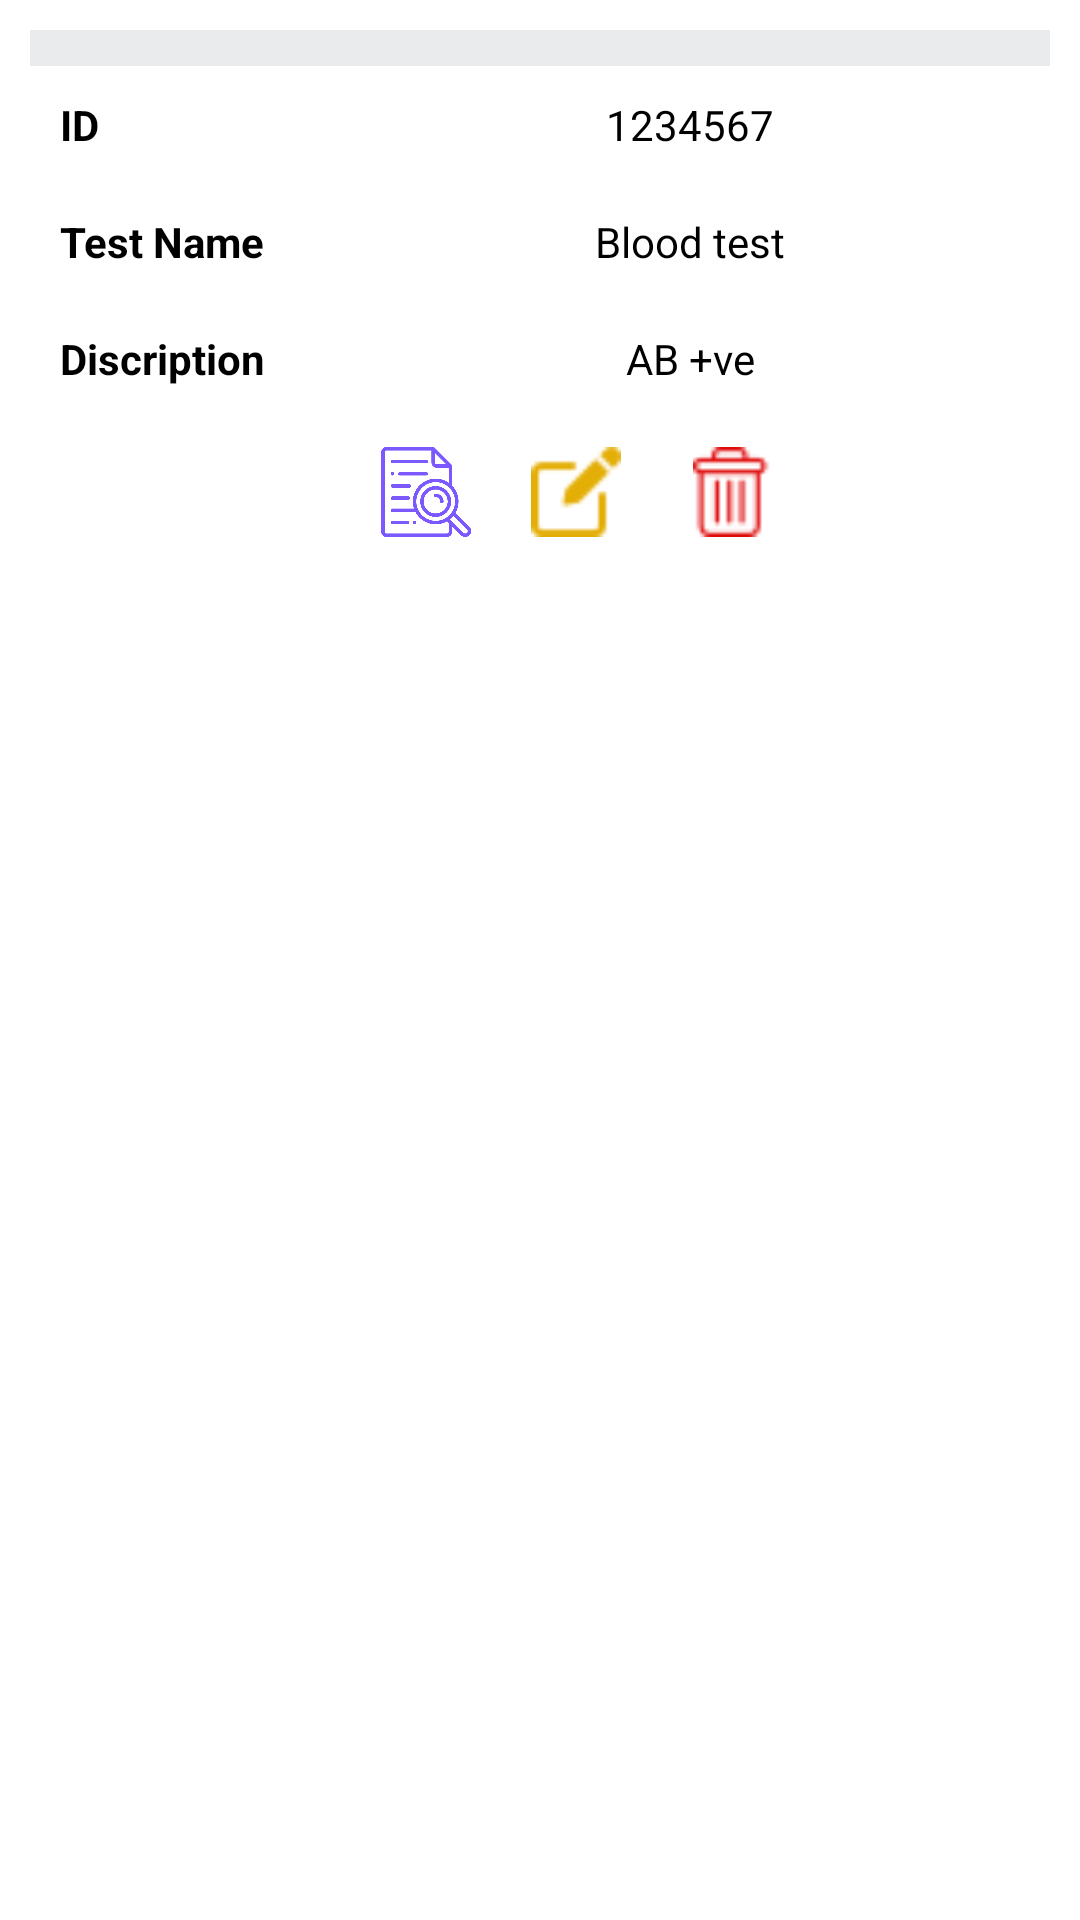

Named icons in this screenshot (1080×1920) and their centers, point (x, y):
delete: point (731, 492)
update: point (576, 492)
